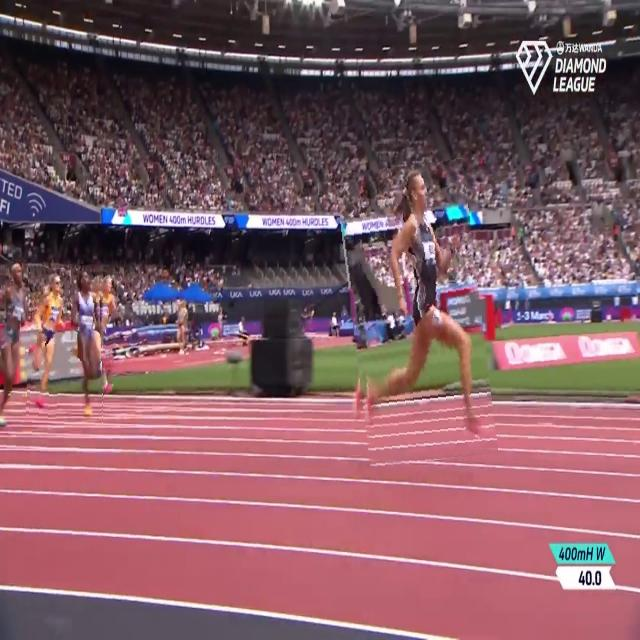athlete: (343, 163, 490, 465), (26, 267, 68, 419), (71, 264, 102, 428), (0, 260, 27, 429), (87, 272, 117, 401)
